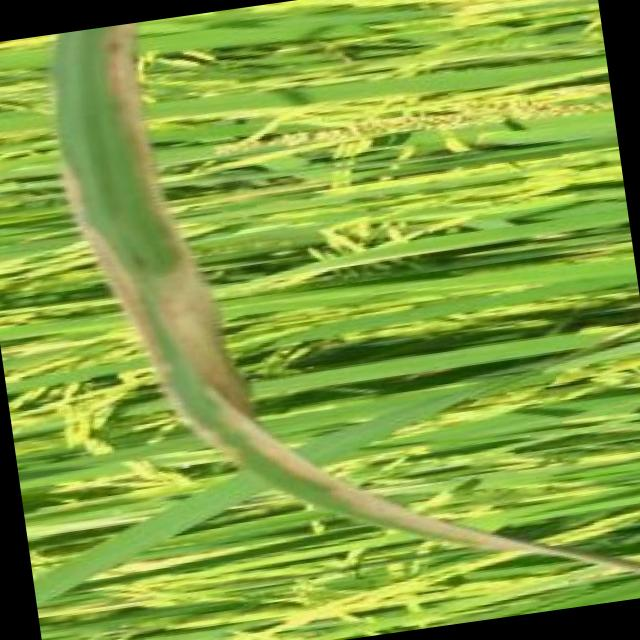Rice_Bacterial_Blight: (39, 23, 208, 396)
